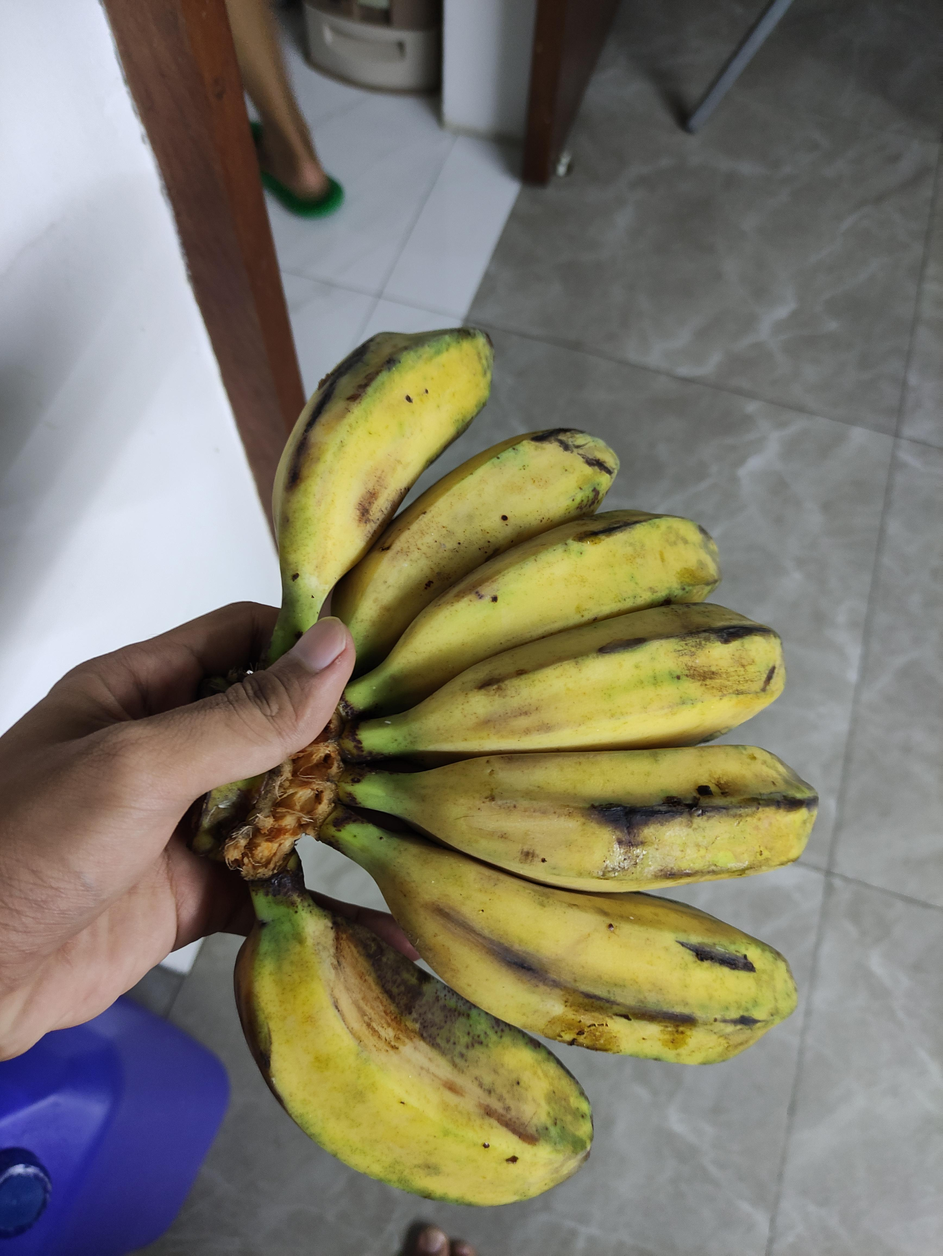underripe: (236, 328, 818, 1205)
